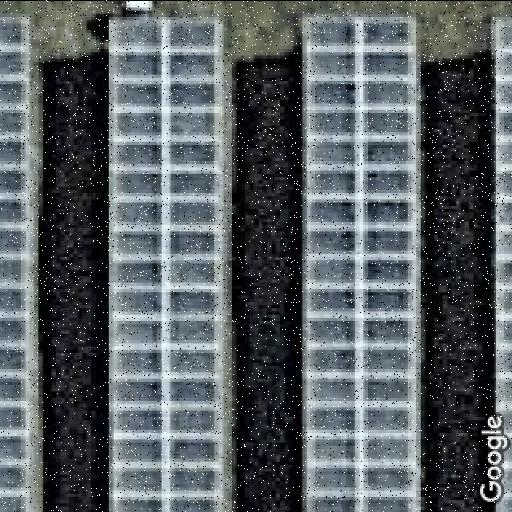solar-panel: (106, 14, 226, 512), (299, 14, 418, 512), (0, 11, 43, 512), (488, 13, 512, 512)
